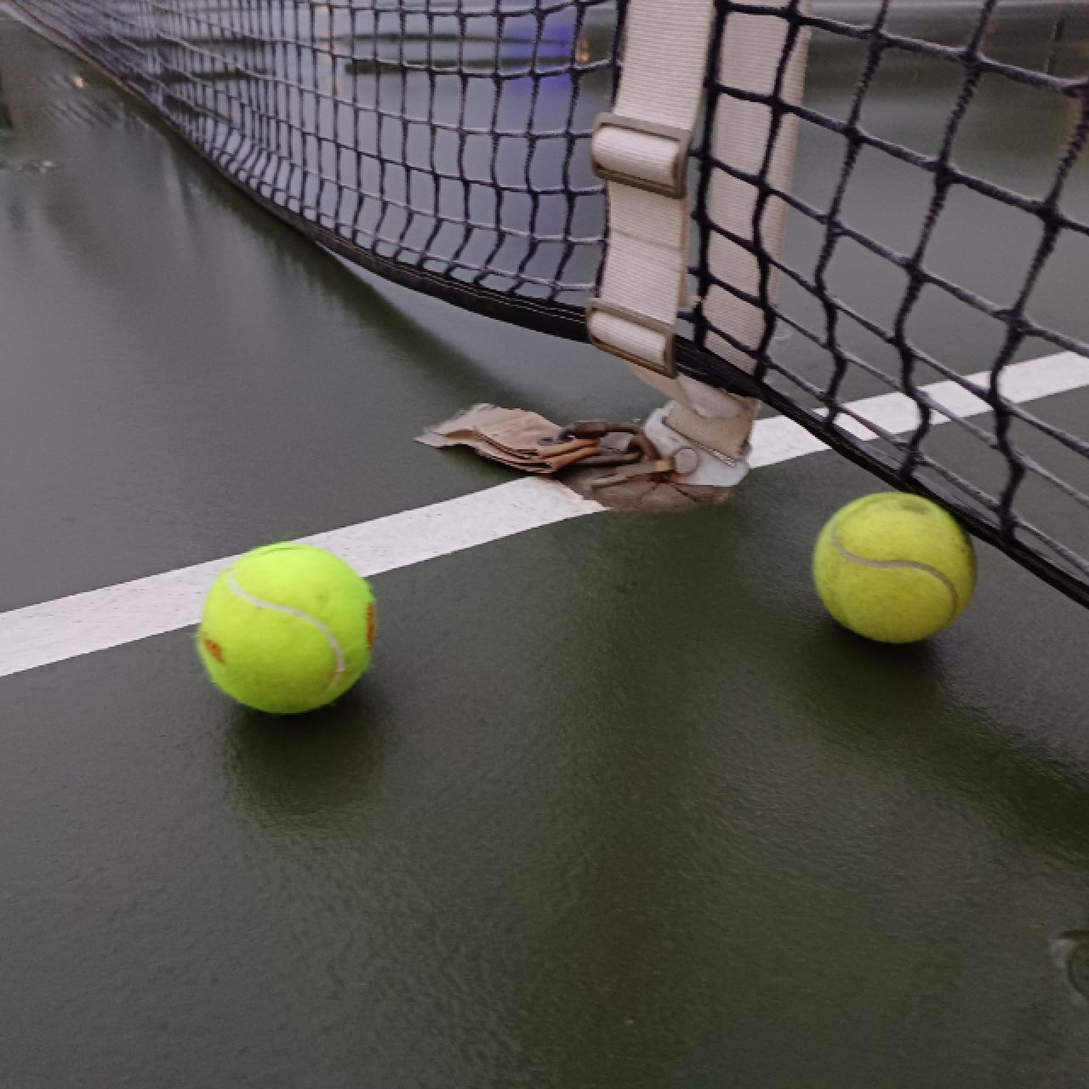tennis-ball: (193, 540, 383, 718), (811, 487, 979, 647)
